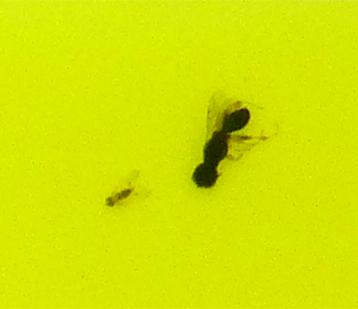Hemiptera: (100, 181, 133, 209)
Hymenoptera: (186, 100, 258, 193)
